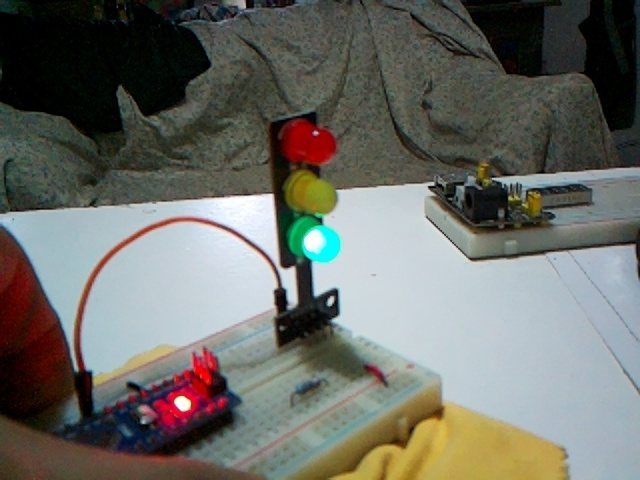traffic_light_green: (269, 112, 340, 345)
